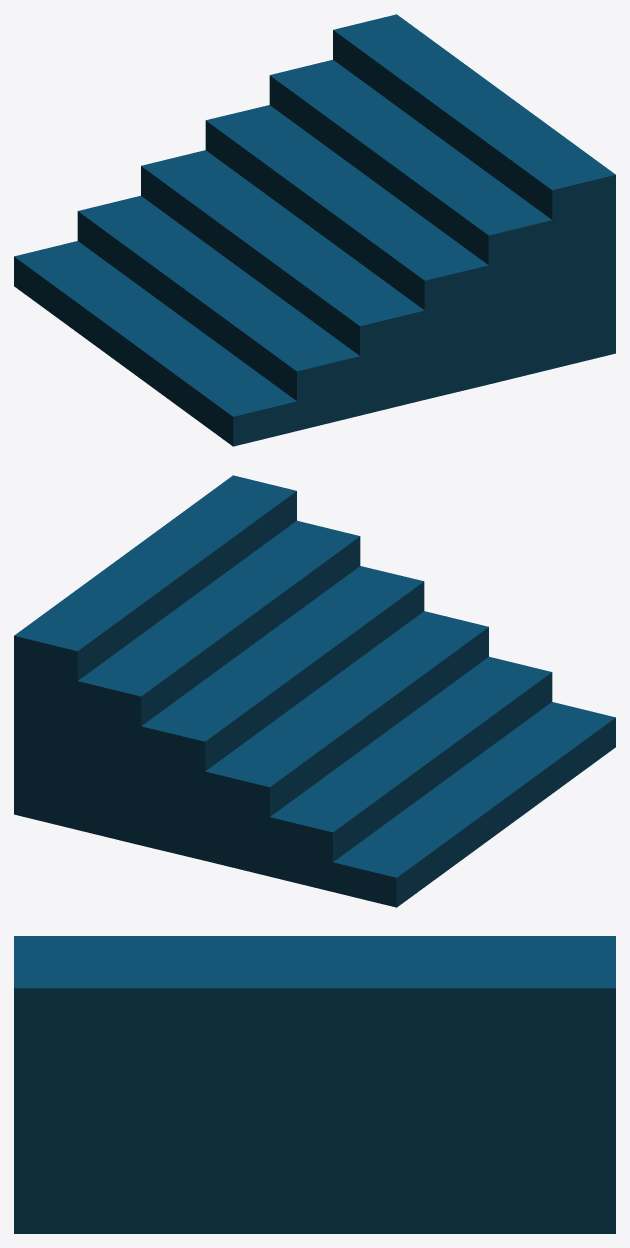
Rendered from stair_type_04.fbx.
3 renders of one model, top to bottom at view 1: azimuth 30°, elevation 25°; view 2: azimuth 150°, elevation 25°; view 3: azimuth 270°, elevation 25°, orthographic. The views are drawn at different scales.
Parts seen in each view (by area): view 1: stair_type_04; view 2: stair_type_04; view 3: stair_type_04.
Part boxes in pixels (x1,y1,x2,y2): stair_type_04: (14, 14, 615, 446); stair_type_04: (14, 475, 615, 907); stair_type_04: (14, 936, 615, 1233).
Size of the model in its own units: 202 by 90 by 200.
